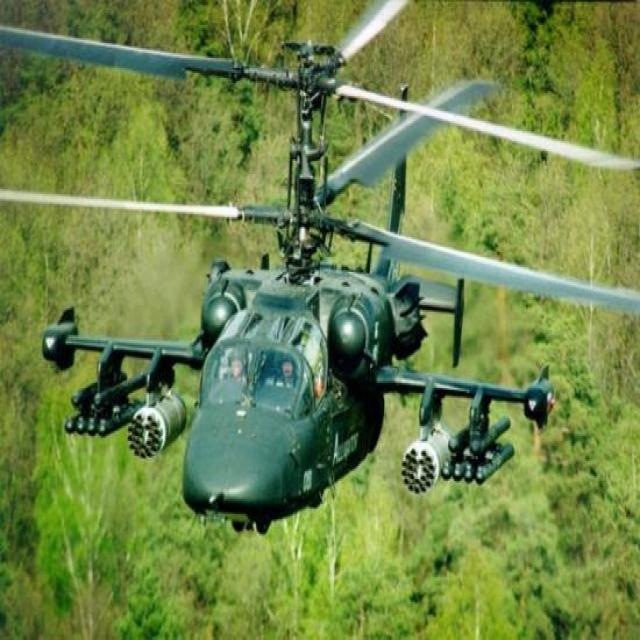MIL_HELO: (0, 0, 640, 544)
